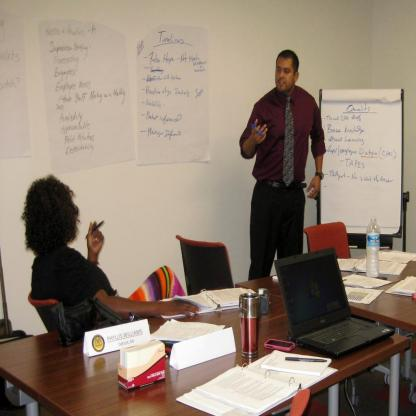board: (272, 246, 392, 375), (238, 292, 262, 354), (366, 215, 380, 279)
